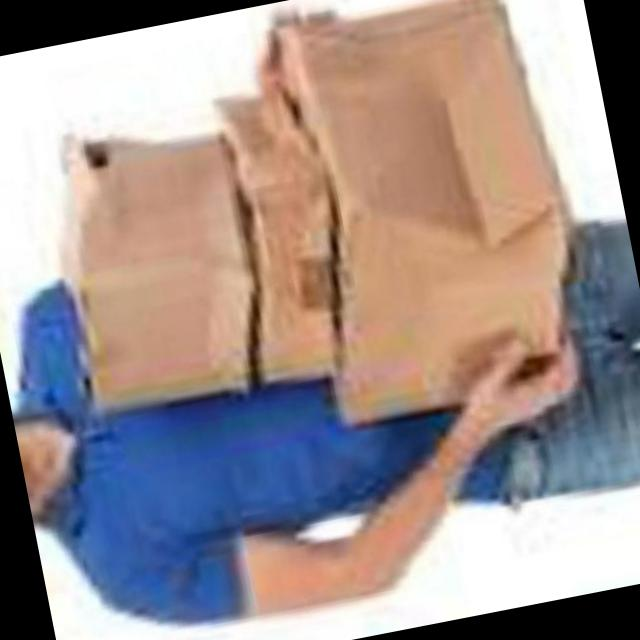box: (263, 0, 594, 439), (23, 61, 274, 427), (206, 75, 364, 400)
